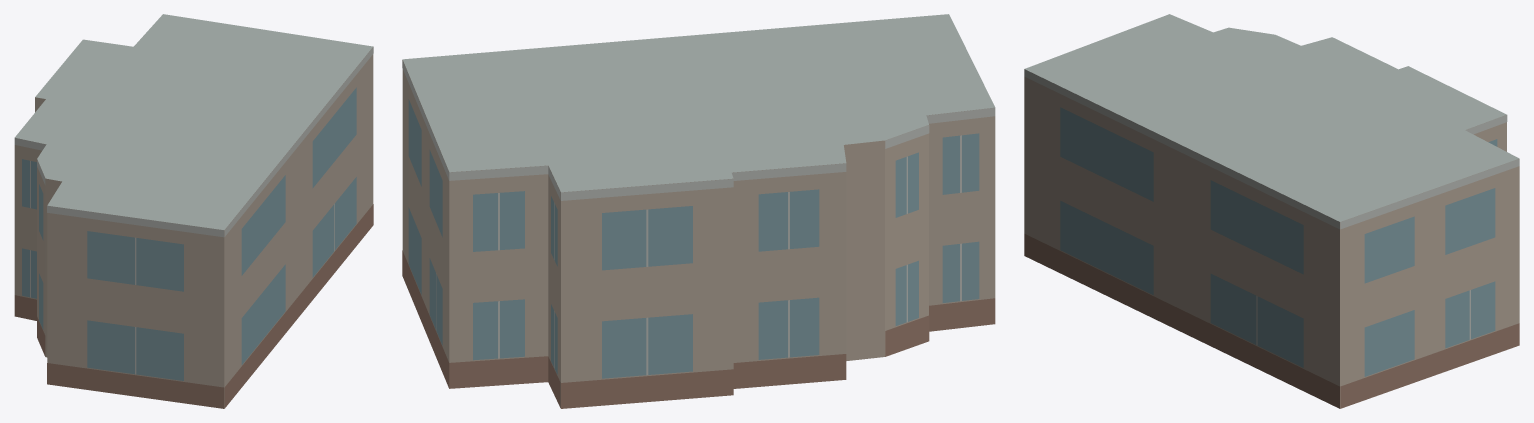
Rendered from survey-upis-32675954.glb.
The picture shows the model from 3 angles, left to right: view 1: azimuth 30°, elevation 25°; view 2: azimuth 150°, elevation 25°; view 3: azimuth 270°, elevation 25°; orthographic projection. The views are drawn at different scales.
Visible parts, largest first — view 1: survey-upis-32675954.tmp; view 2: survey-upis-32675954.tmp; view 3: survey-upis-32675954.tmp.
Part boxes in pixels (x1,y1,x2,y2): survey-upis-32675954.tmp: (14,14,373,408); survey-upis-32675954.tmp: (402,14,995,408); survey-upis-32675954.tmp: (1024,14,1519,408).
Size of the model in its own units: 14.58 by 6.1 by 14.67.
